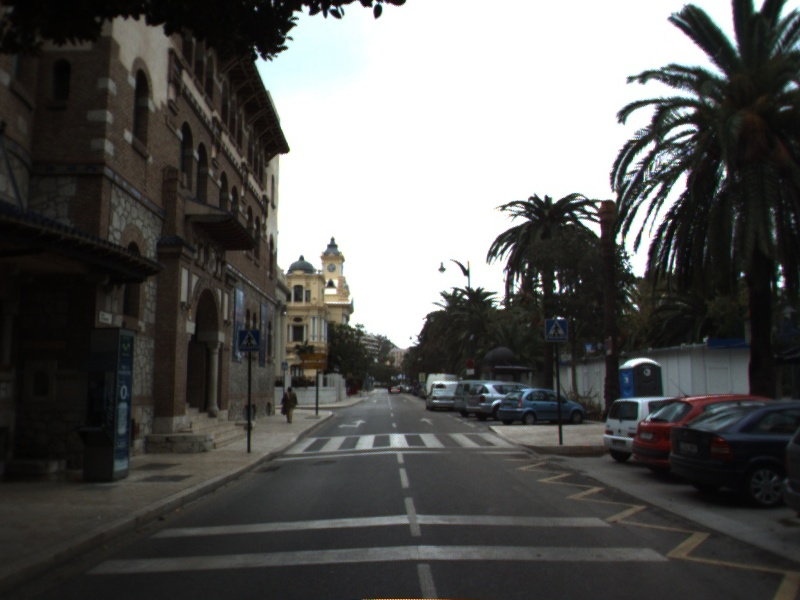STRAIGHT: (417, 415, 438, 428)
STRAIGHT_LEFT: (335, 417, 369, 431)
